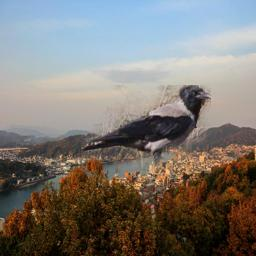Crow: (81, 85, 211, 173)
